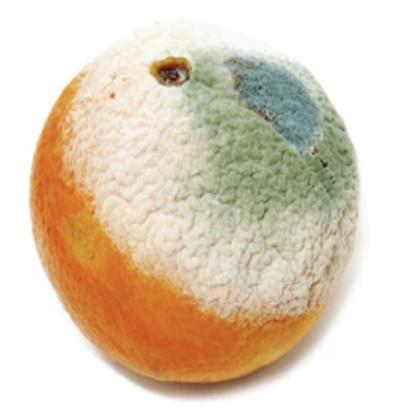rotten: (27, 44, 359, 387)
